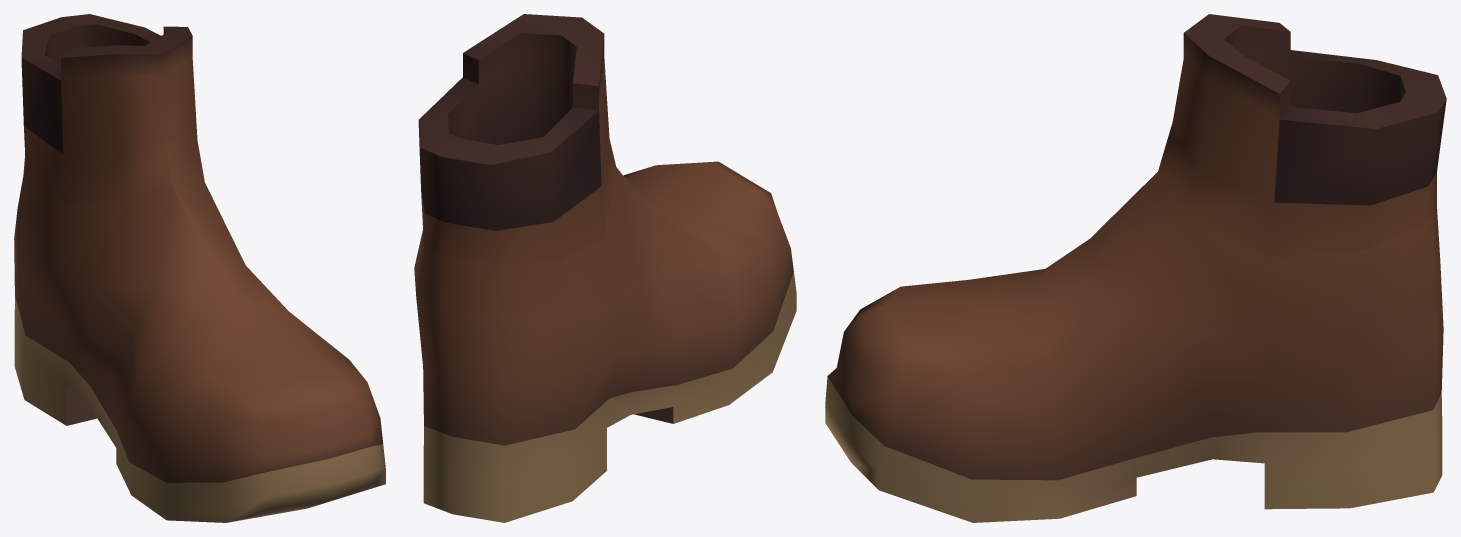
3 views of the same model, side by side, from view 1: azimuth 30°, elevation 25°; view 2: azimuth 150°, elevation 25°; view 3: azimuth 270°, elevation 25° (orthographic). The views are drawn at different scales.
Visible parts, largest first — view 1: alt1.183; view 2: alt1.183; view 3: alt1.183.
Boxes of the visible parts, left/top/right/bottom form: alt1.183: left=14, top=14, right=385, bottom=522; alt1.183: left=414, top=14, right=796, bottom=522; alt1.183: left=825, top=14, right=1446, bottom=522.
Bounding box in the file's own units: 0.2067 × 0.3898 × 0.5.
